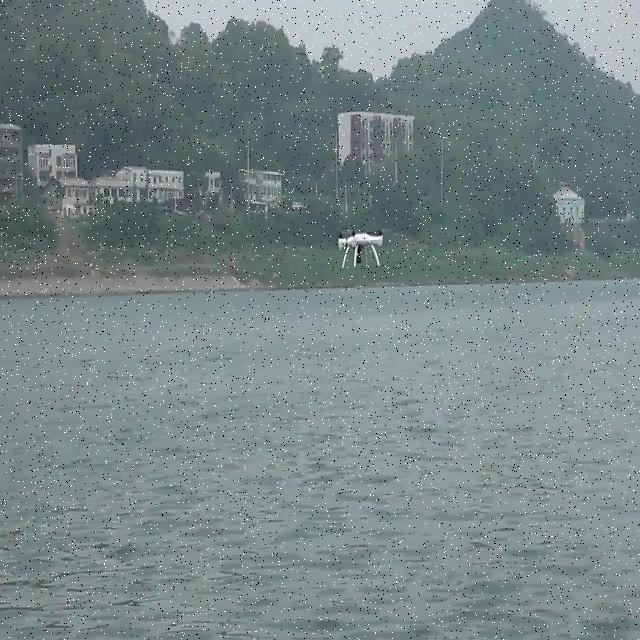UAV: (339, 230, 383, 270)
